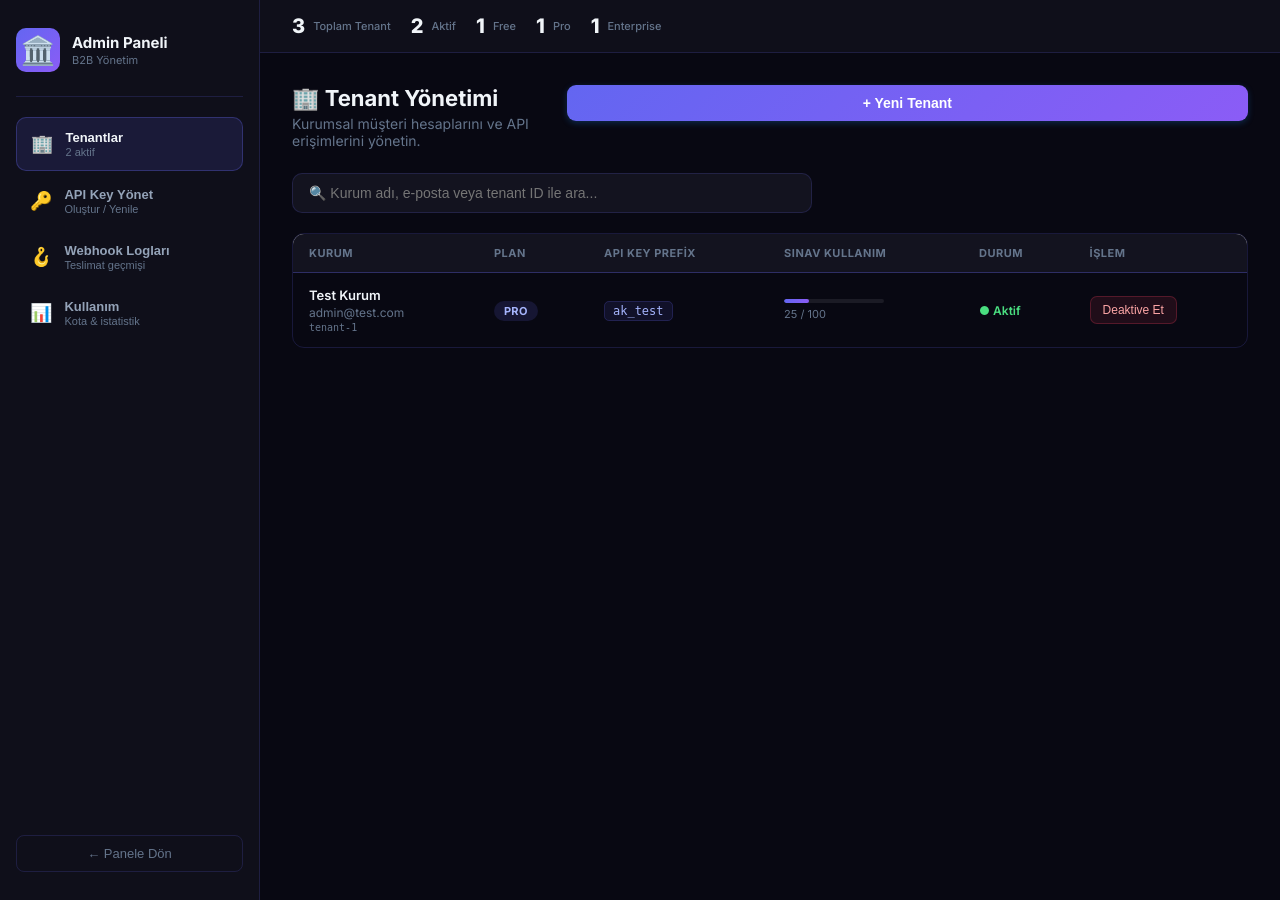
Test case: AdminPanel › API Key Yönet tabında webhook secret yenilenmeli
Click the text "API Key Yönet" at {"x": 109, "y": 194}, box left=64, top=187, right=153, bottom=202
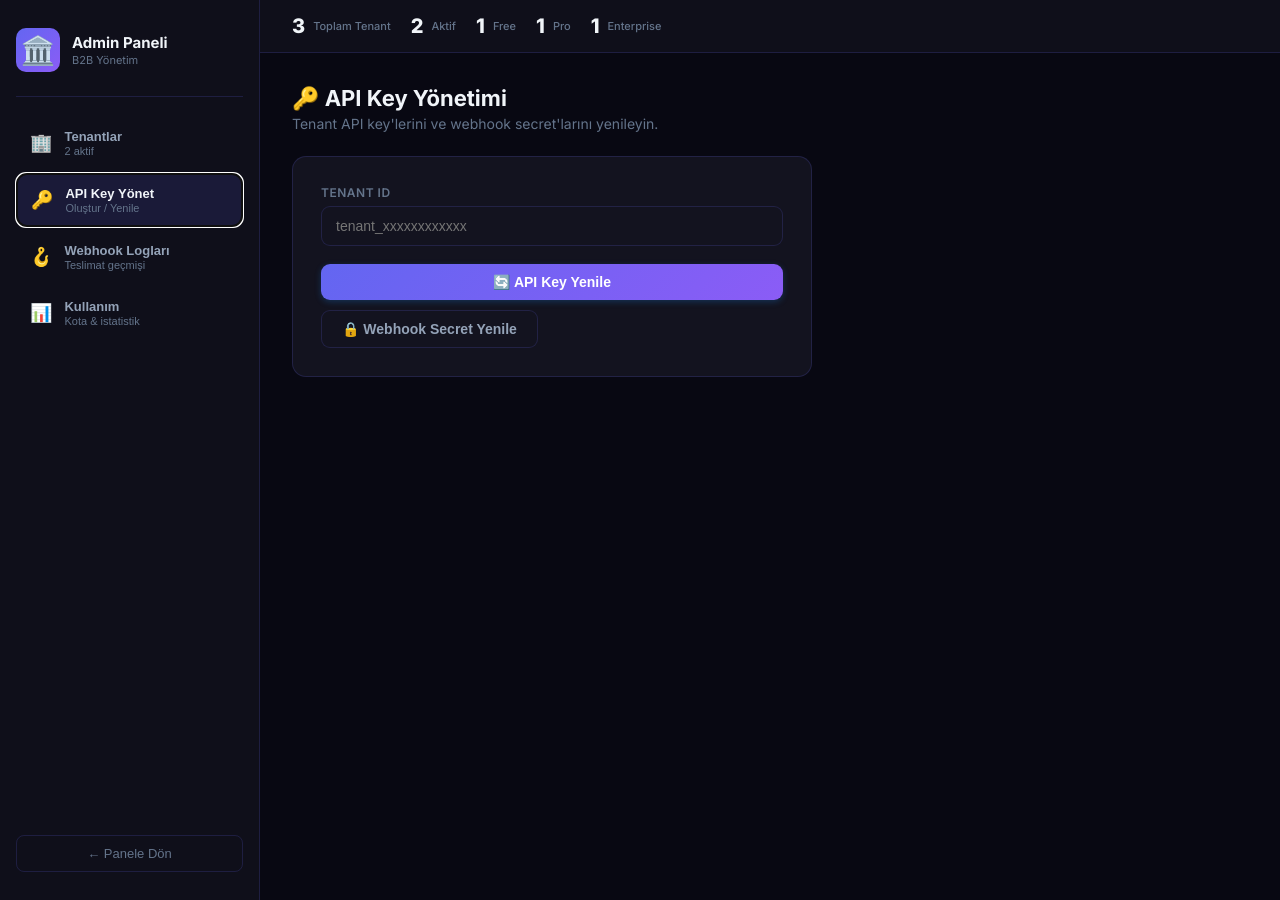
Type "tenant-1" into the field with placeholder "tenant_xxxxxxxxxxxx" at {"x": 552, "y": 226}, box left=321, top=206, right=783, bottom=246
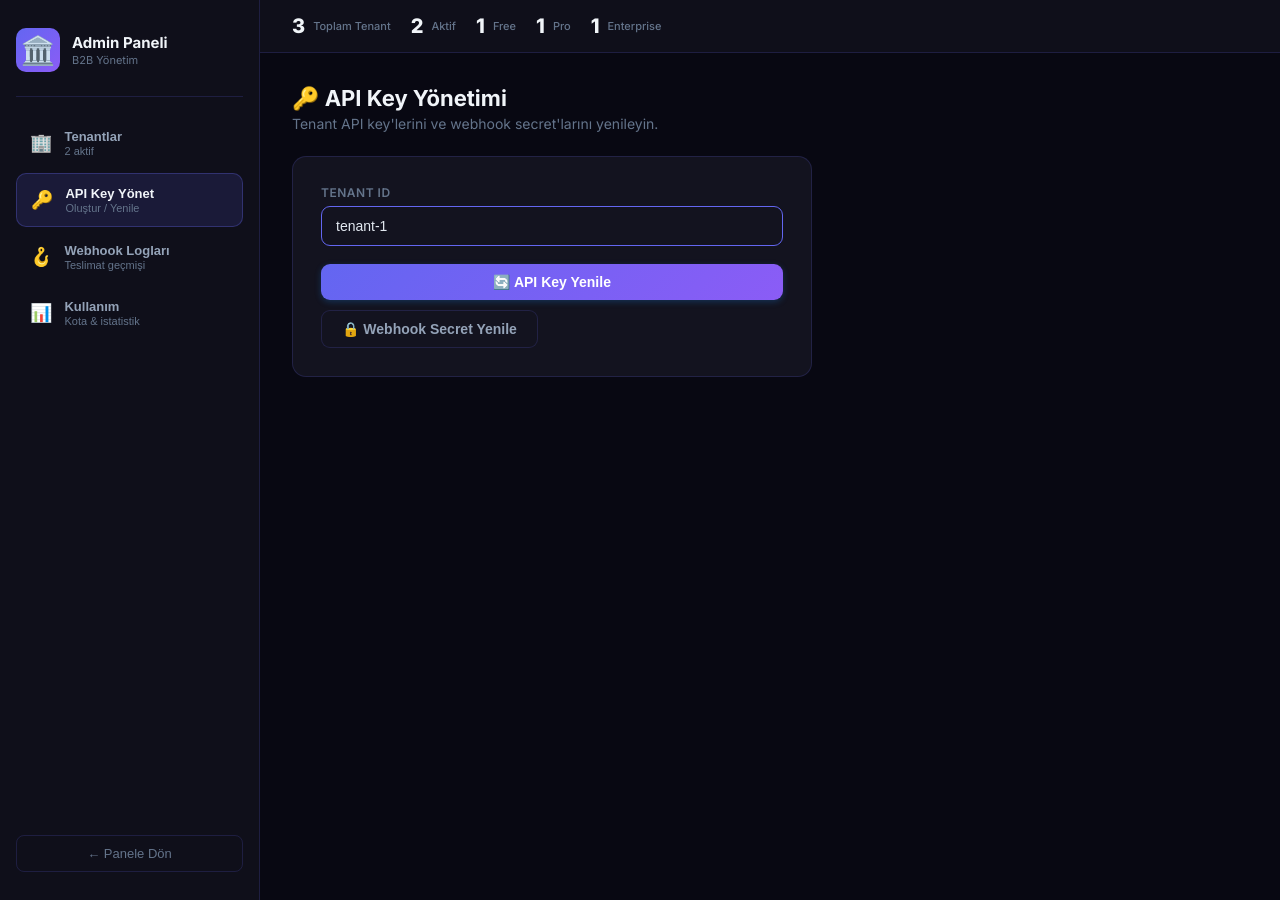
Click the button "🔒 Webhook Secret Yenile" at {"x": 429, "y": 329}, box left=321, top=310, right=538, bottom=348
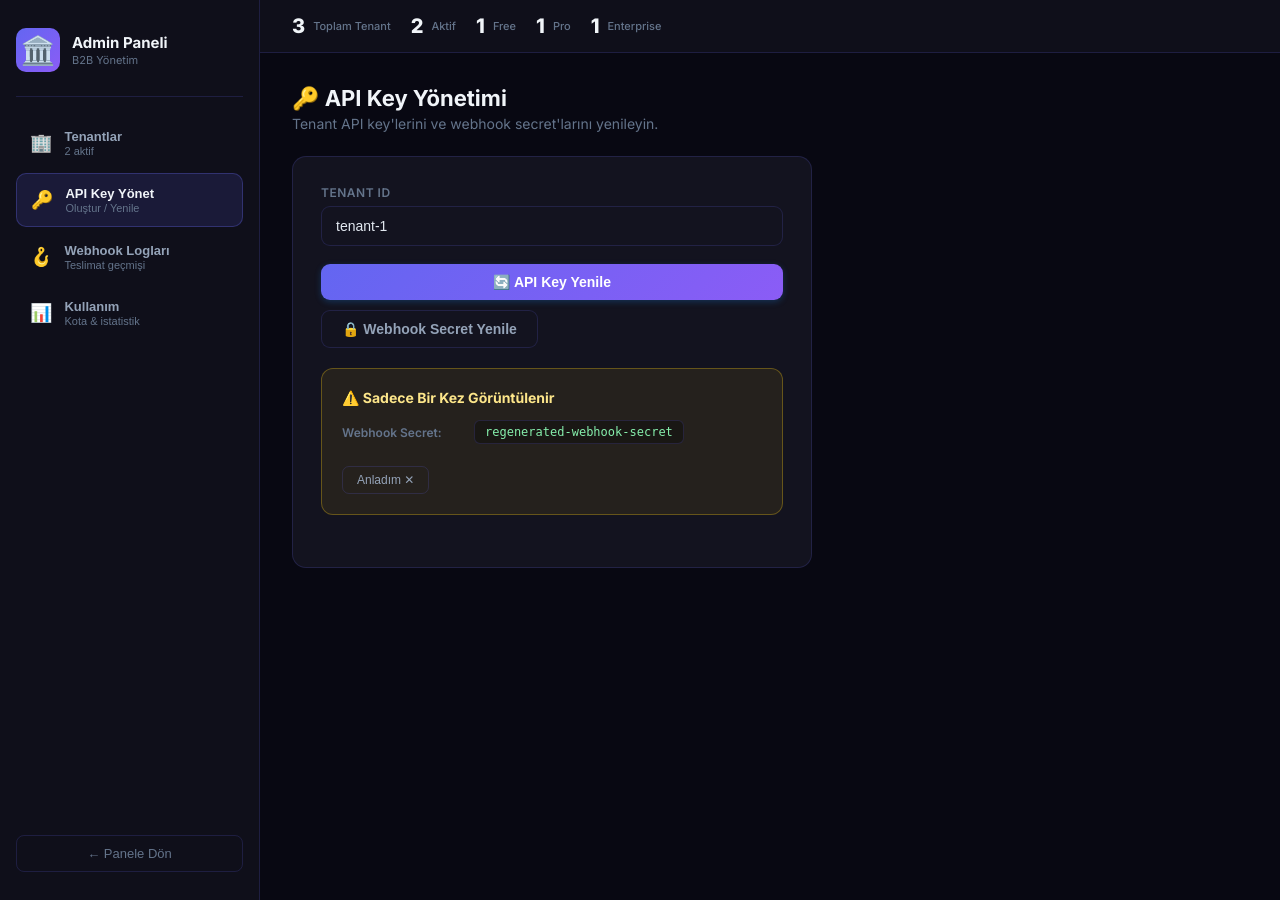
Result: the text "regenerated-webhook-secret" is shown at left=474, top=420, right=684, bottom=444
